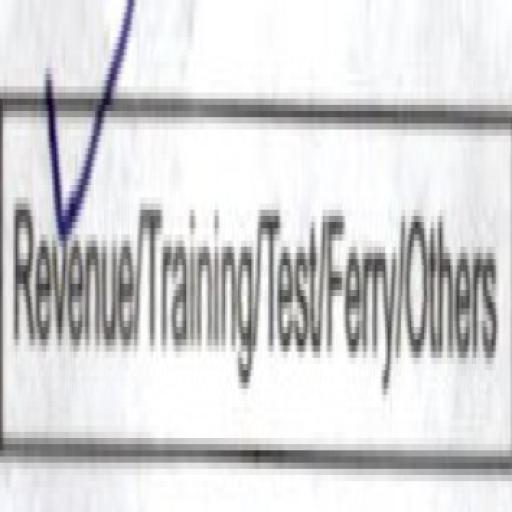check: (7, 0, 141, 461)
